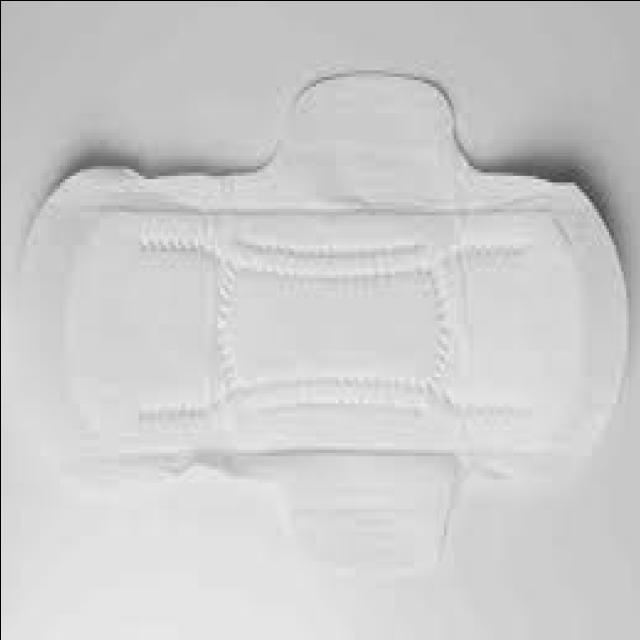napkin: (20, 75, 625, 581)
